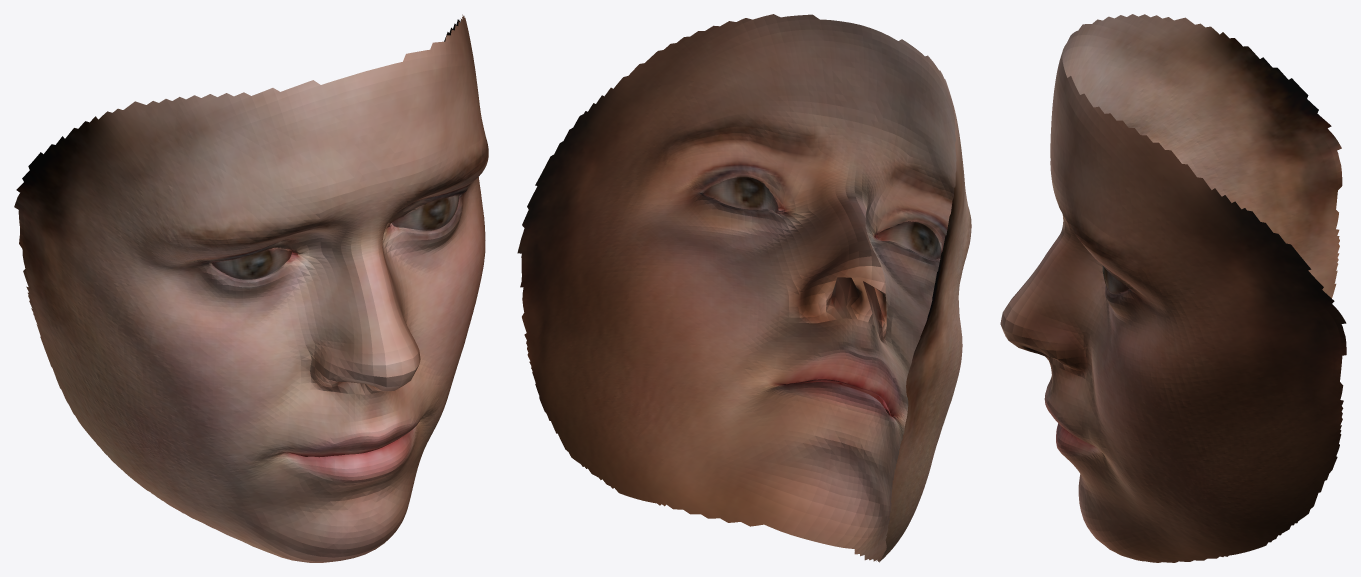
Rendered from sad1_mesh.obj.
3 renders of one model, left to right at view 1: azimuth 30°, elevation 25°; view 2: azimuth 150°, elevation 25°; view 3: azimuth 270°, elevation 25°, orthographic. The views are drawn at different scales.
Size of the model in its own units: 1.38 by 1.64 by 1.06.
